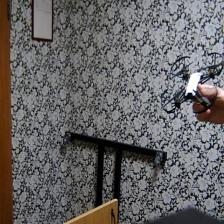drone: (157, 51, 224, 121)
